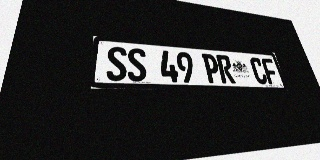4: (159, 50, 179, 82)
9: (176, 51, 196, 83)
C: (249, 57, 269, 84)
F: (261, 58, 280, 84)
P: (201, 53, 222, 83)
R: (216, 55, 236, 83)
S: (106, 46, 127, 81), (127, 48, 147, 82)
